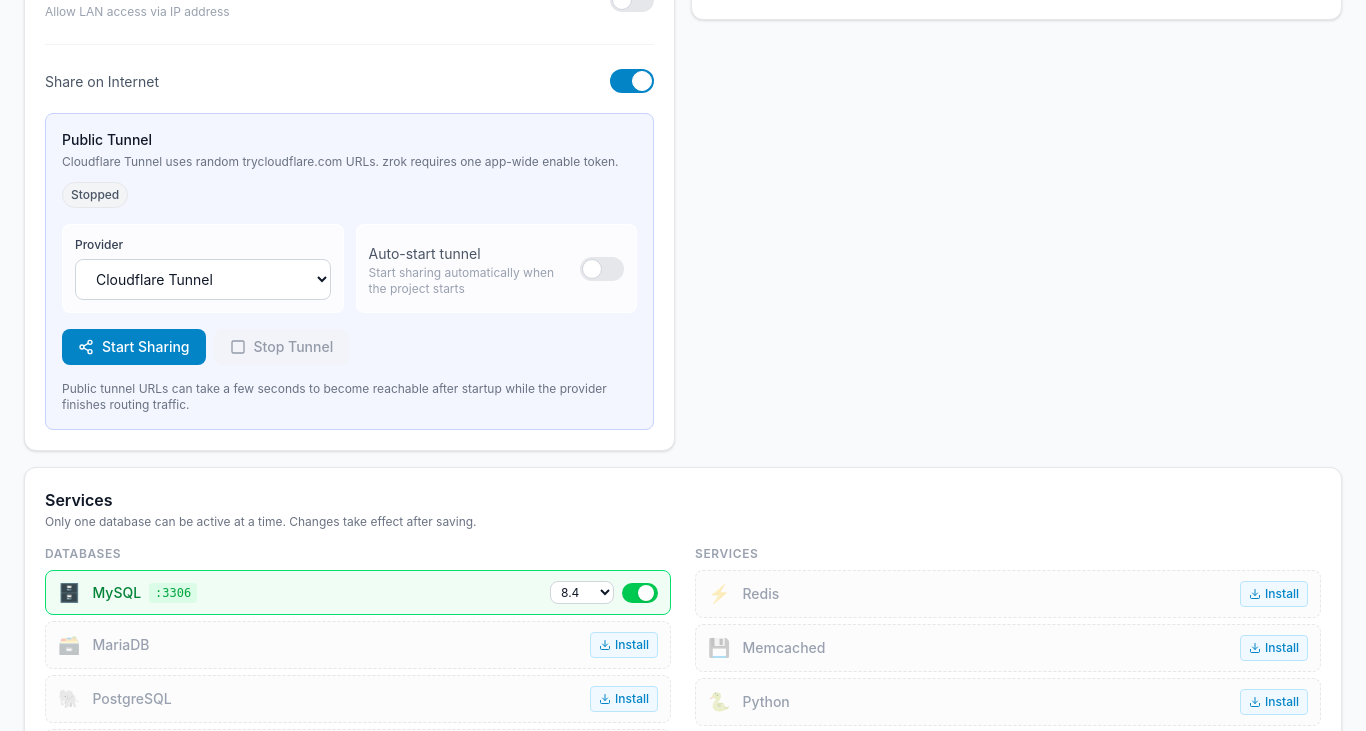
Test case: ProjectDetail › Internet sharing › shows internet sharing controls and starts a cloudflared tunnel
The width and height of the screenshot is (1366, 731).
(page scrolled)
Click the button "Start Sharing".
click(134, 347)  # box [62, 329, 206, 365]
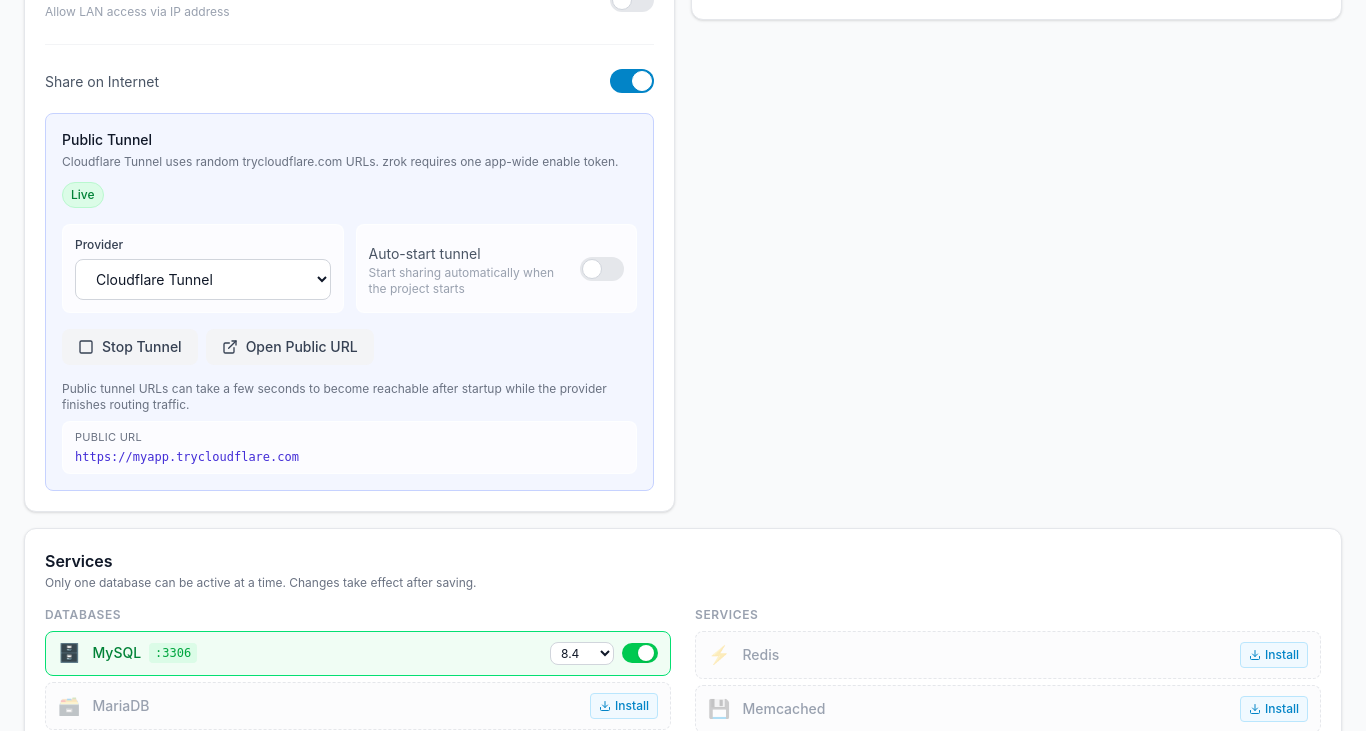
Check: the text "https://myapp.trycloudflare.com" is shown, box [75, 450, 299, 464]
